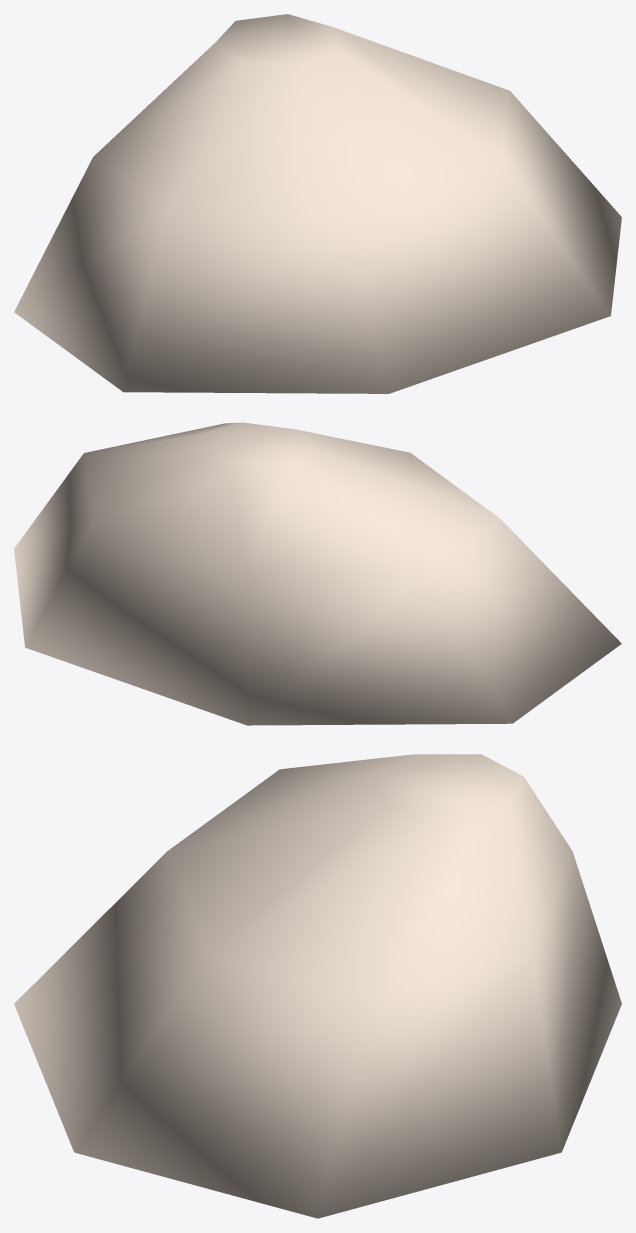
File: shell.glb
3 renders of one model, top to bottom at view 1: azimuth 30°, elevation 25°; view 2: azimuth 150°, elevation 25°; view 3: azimuth 270°, elevation 25°, orthographic. The views are drawn at different scales.
Visible parts, largest first — view 1: shell; view 2: shell; view 3: shell.
Boxes of the visible parts, <box> form: shell: <box>14,14,621,393</box>; shell: <box>14,422,621,725</box>; shell: <box>14,754,621,1218</box>.
Bounding box in the file's own units: 0.3042 × 0.11 × 0.234.
